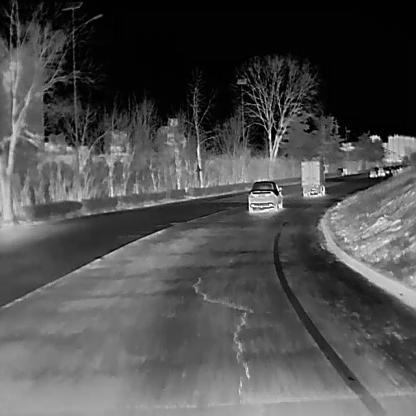car: (244, 179, 282, 211), (300, 158, 327, 196)
